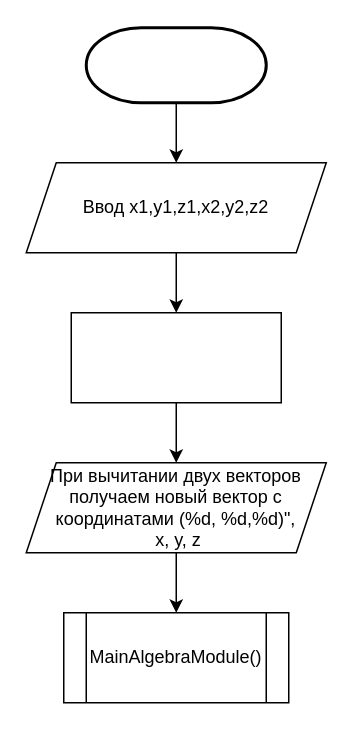
Some shapes in this 353 by 729 pixel diagram are drawn without their labels. The centre of each missing label's shape, as x and y in pixels:
"x=x1-x2; y=y1-y2; z=z1-z2" belongs at (175,357).
"Начало" belongs at (175,65).
